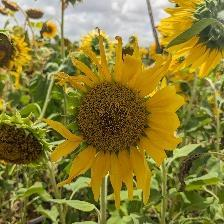sunflower: (69, 46, 181, 193)
